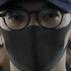with_mask: (2, 2, 71, 71)
